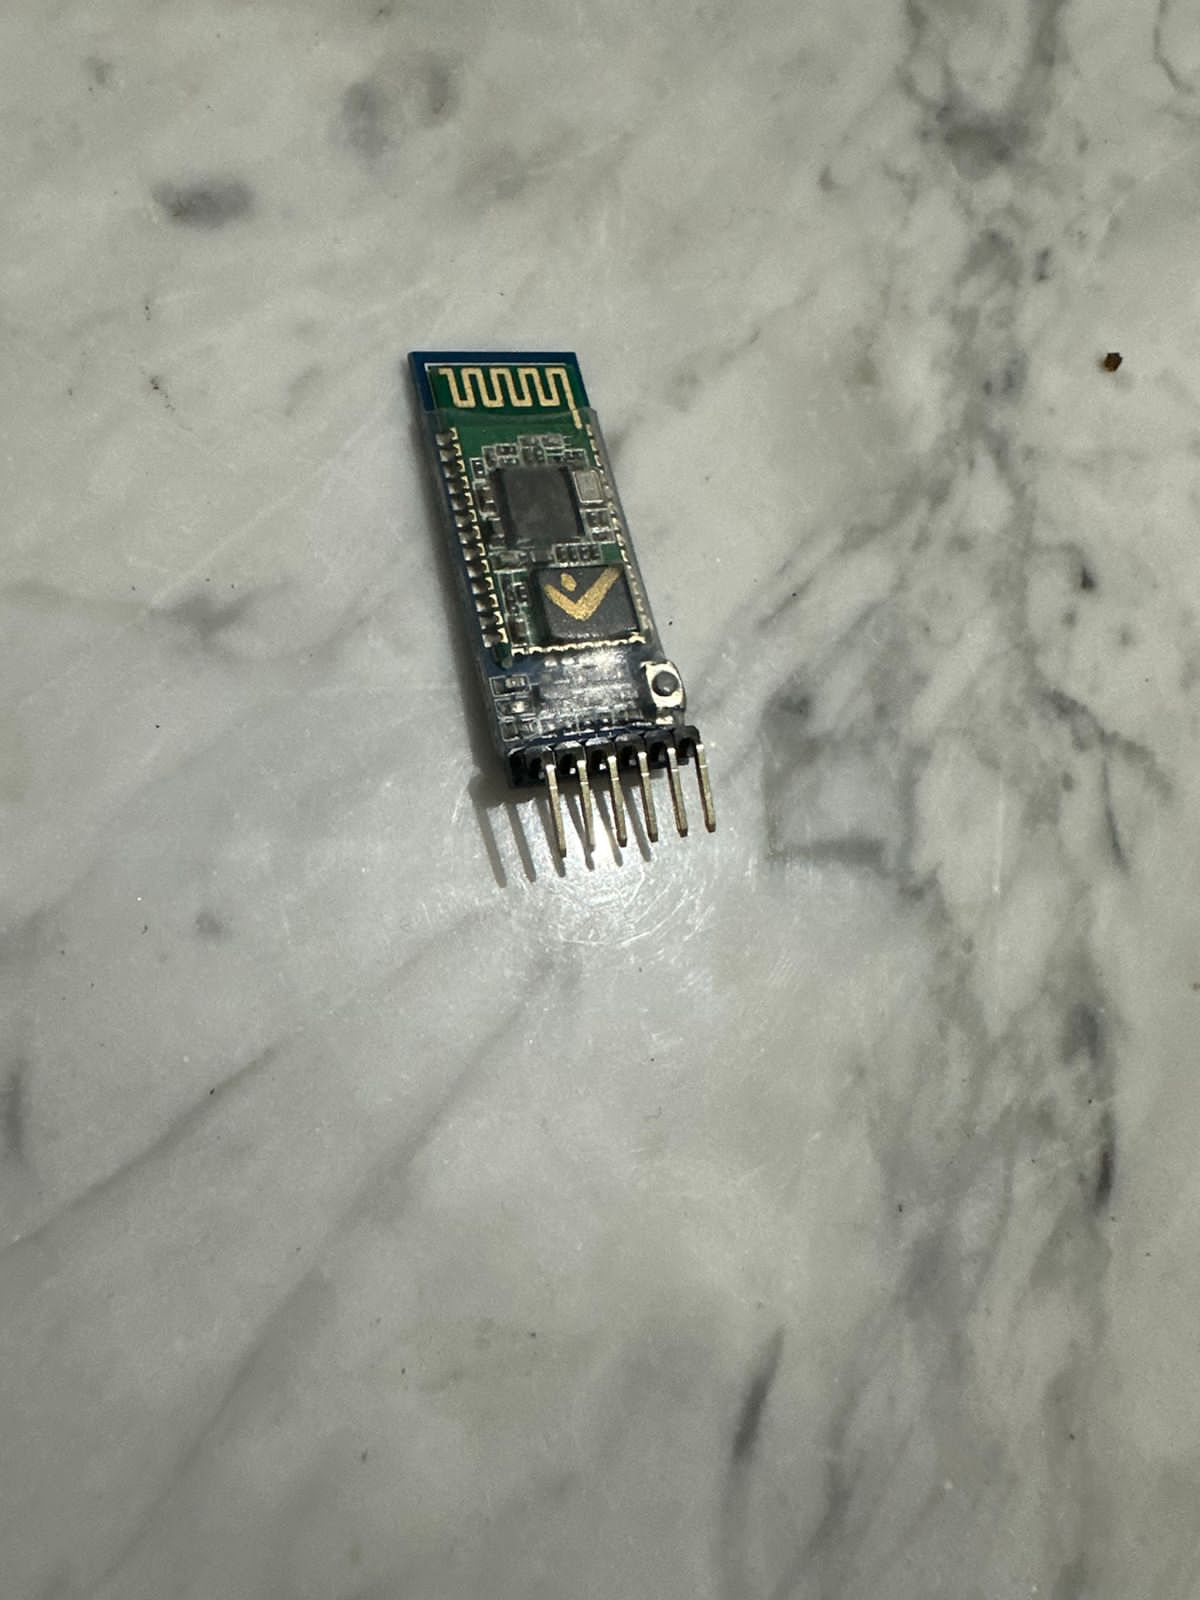module-bluetooth: (393, 341, 744, 887)
